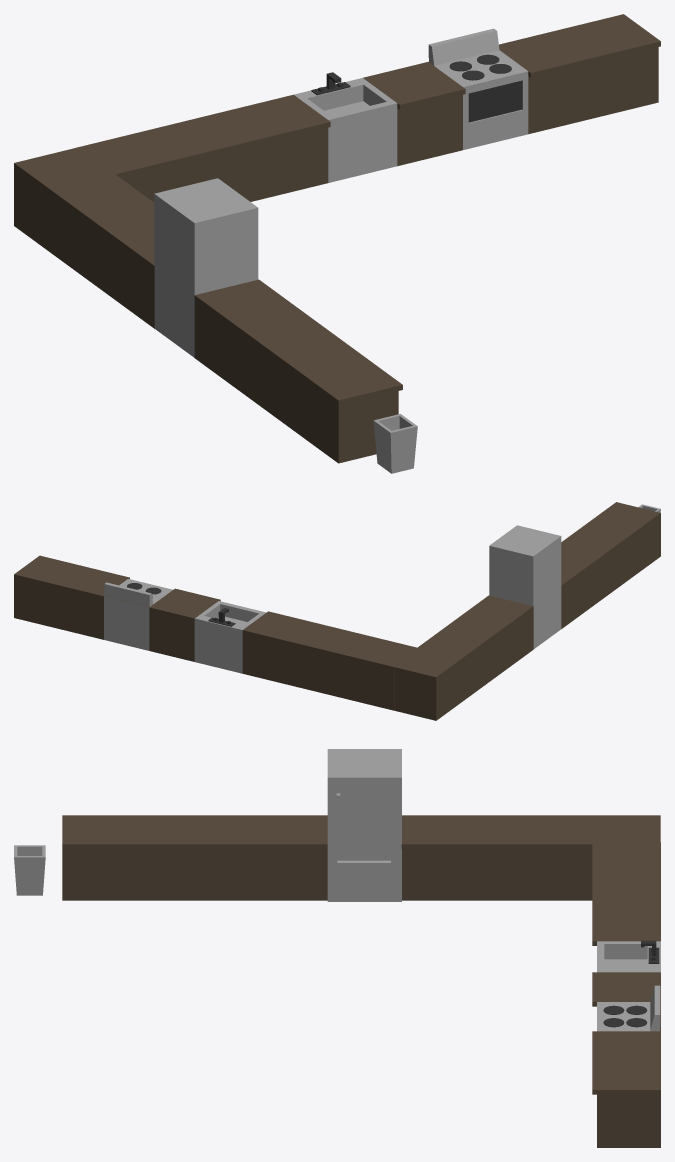
Rendered from Kitchen_Counter.fbx.
The picture shows the model from 3 angles, top to bottom: view 1: azimuth 30°, elevation 25°; view 2: azimuth 150°, elevation 25°; view 3: azimuth 270°, elevation 25°; orthographic projection. The views are drawn at different scales.
Visible parts, largest first — view 1: polySurface27; view 2: polySurface27; view 3: polySurface27.
Boxes of the visible parts, x1,y1,x2,y2 form: polySurface27: (14, 14, 660, 473); polySurface27: (14, 502, 660, 720); polySurface27: (14, 749, 660, 1147).
Bounding box in the file's own units: 11.6 × 2.45 × 11.55.
